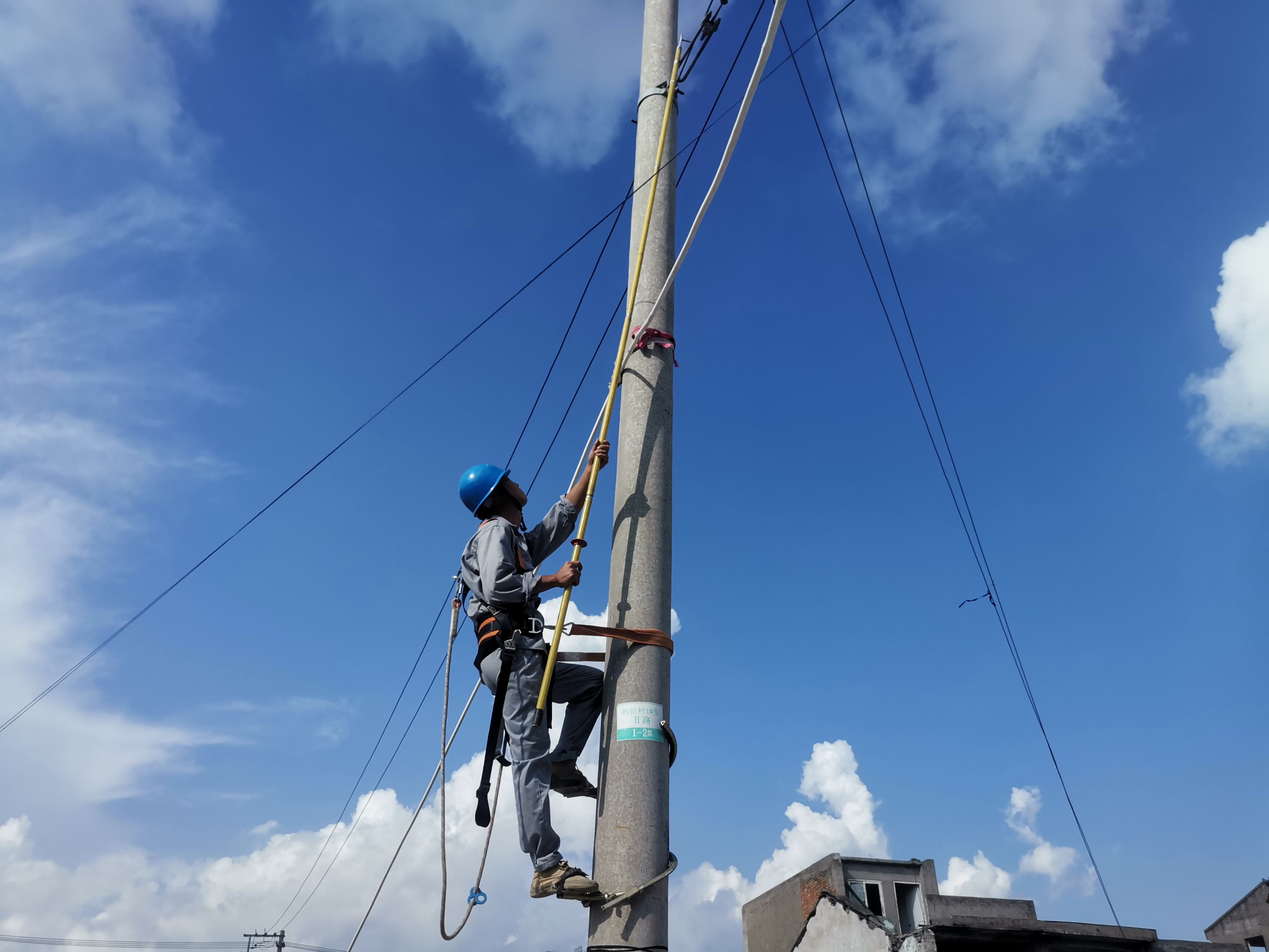绝缘操作杆: (534, 34, 686, 711)
